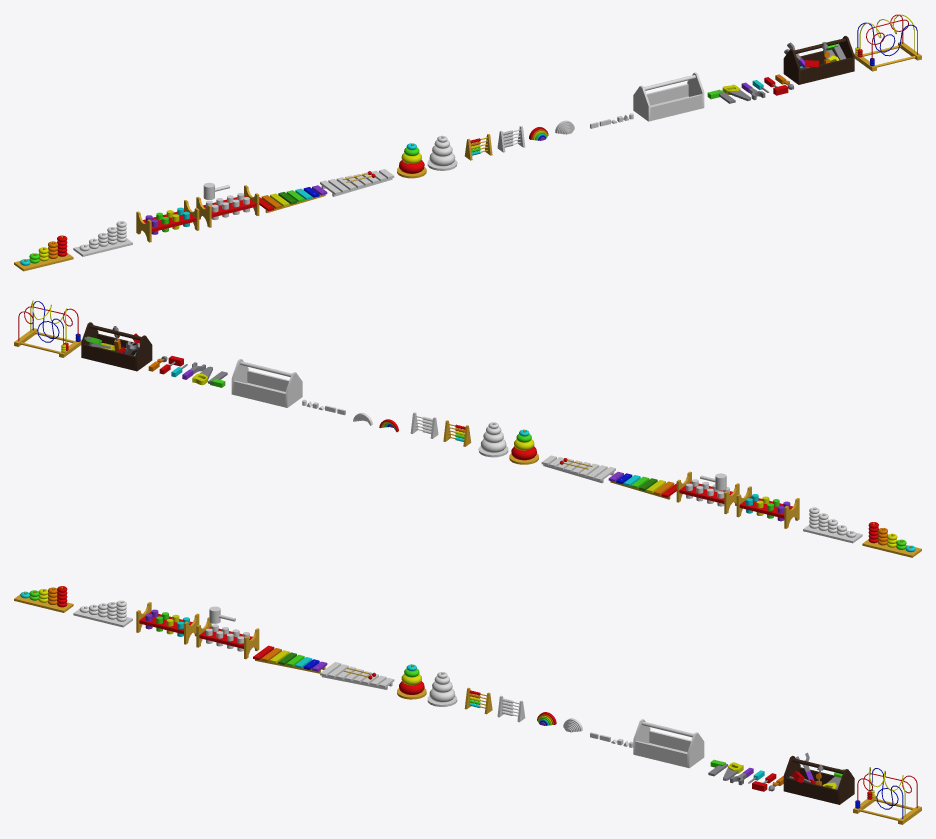
Rendered from BabyToys.fbx.
The picture shows the model from 3 angles, top to bottom: view 1: azimuth 30°, elevation 25°; view 2: azimuth 150°, elevation 25°; view 3: azimuth 330°, elevation 25°; orthographic projection.
Visible parts, largest first — view 1: Tool_Box_Full, Tool_Box, Wire_Maze, Hammer_Bench_Joined, Stacker_Small_Joined, Xylophone_Joined, Hammer_Bench, Stacker_Large_Joined; view 2: Tool_Box_Full, Tool_Box, Wire_Maze, Hammer_Bench_Joined, Stacker_Small_Joined, Xylophone_Joined, Hammer_Bench, Stacker_Large_Joined; view 3: Tool_Box_Full, Tool_Box, Wire_Maze, Hammer_Bench_Joined, Xylophone_Joined, Stacker_Small_Joined, Hammer_Bench, Stacker_Large_Joined.
Part boxes in pixels (left/top/right/bottom): Tool_Box_Full: left=783, top=36, right=854, bottom=84; Tool_Box: left=633, top=72, right=704, bottom=121; Wire_Maze: left=854, top=14, right=921, bottom=71; Hammer_Bench_Joined: left=136, top=200, right=199, bottom=242; Stacker_Small_Joined: left=14, top=235, right=73, bottom=271; Xylophone_Joined: left=259, top=185, right=327, bottom=212; Hammer_Bench: left=196, top=185, right=259, bottom=227; Stacker_Large_Joined: left=397, top=143, right=426, bottom=178; Tool_Box_Full: left=81, top=322, right=152, bottom=371; Tool_Box: left=231, top=359, right=302, bottom=407; Wire_Maze: left=14, top=300, right=81, bottom=357; Hammer_Bench_Joined: left=736, top=486, right=799, bottom=528; Stacker_Small_Joined: left=862, top=522, right=921, bottom=557; Xylophone_Joined: left=608, top=471, right=676, bottom=499; Hammer_Bench: left=676, top=471, right=739, bottom=513; Stacker_Large_Joined: left=509, top=429, right=538, bottom=464; Tool_Box_Full: left=783, top=752, right=854, bottom=804; Tool_Box: left=633, top=719, right=704, bottom=768; Wire_Maze: left=853, top=767, right=921, bottom=824; Hammer_Bench_Joined: left=136, top=602, right=199, bottom=644; Xylophone_Joined: left=253, top=645, right=327, bottom=673; Stacker_Small_Joined: left=14, top=586, right=73, bottom=612; Hammer_Bench: left=196, top=617, right=259, bottom=659; Stacker_Large_Joined: left=397, top=664, right=426, bottom=699.
Bounding box in the file's own units: 894 × 37.98 × 40.77.
